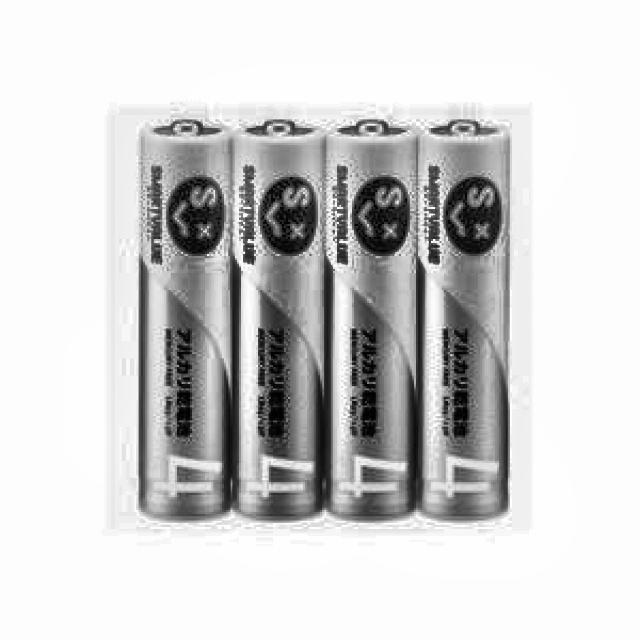drycell: (410, 116, 514, 519), (228, 108, 326, 534), (323, 106, 417, 525), (137, 114, 230, 521)
